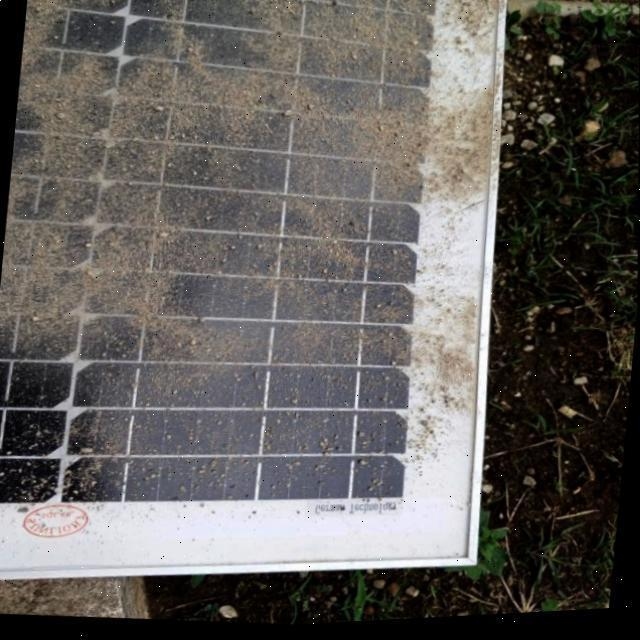Anomaly Solar Panel: (0, 0, 459, 545)
